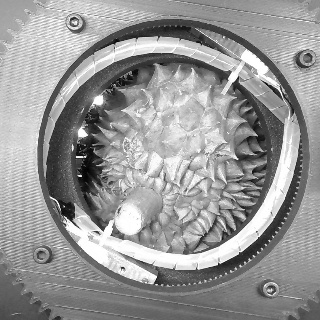base: (125, 184, 166, 222)
end: (114, 201, 142, 236)
